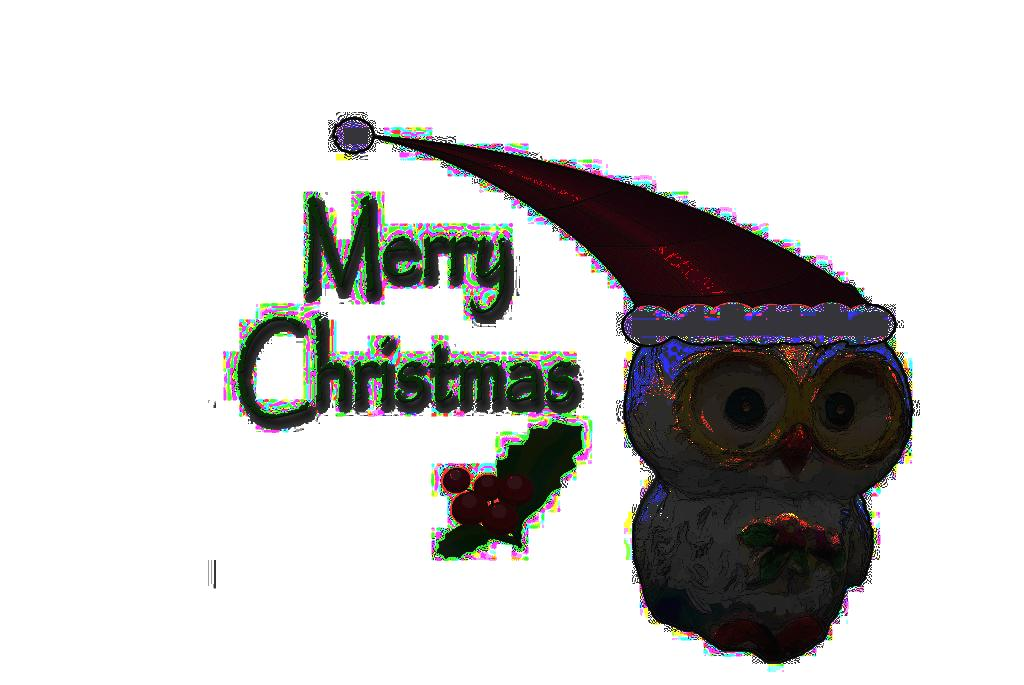Owl: (622, 339, 916, 666)
